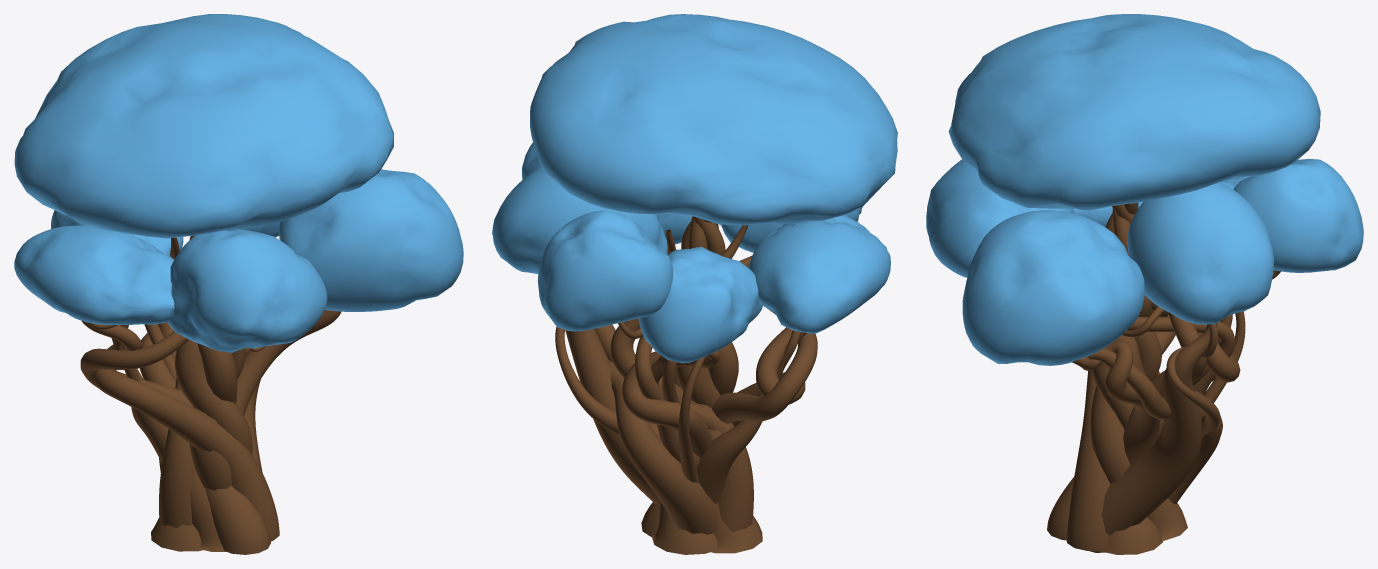
The model's file is bigTree.fbx.
3 views of the same model, side by side, from view 1: azimuth 30°, elevation 25°; view 2: azimuth 150°, elevation 25°; view 3: azimuth 270°, elevation 25° (orthographic). The views are drawn at different scales.
Visible parts, largest first — view 1: leaves2, TreeTrunks, leaves6, leaves1, leaves3, MainTreeTrunk, leaves5; view 2: leaves2, TreeTrunks, leaves4, leaves3, leaves5, MainTreeTrunk, leaves7, leaves1, leaves6; view 3: leaves2, TreeTrunks, leaves6, leaves7, leaves4, MainTreeTrunk, leaves1.
Part boxes in pixels (left/top/right/bottom): leaves2: left=14, top=14, right=393, bottom=238; TreeTrunks: left=80, top=237, right=341, bottom=554; leaves6: left=278, top=169, right=463, bottom=311; leaves1: left=168, top=229, right=327, bottom=352; leaves3: left=14, top=225, right=174, bottom=324; MainTreeTrunk: left=151, top=235, right=252, bottom=551; leaves5: left=51, top=210, right=183, bottom=256; leaves2: left=530, top=14, right=897, bottom=225; TreeTrunks: left=555, top=225, right=817, bottom=534; leaves4: left=537, top=210, right=672, bottom=331; leaves3: left=748, top=215, right=890, bottom=333; leaves5: left=638, top=246, right=762, bottom=363; MainTreeTrunk: left=641, top=216, right=762, bottom=554; leaves7: left=492, top=165, right=667, bottom=274; leaves1: left=720, top=206, right=862, bottom=252; leaves6: left=522, top=143, right=691, bottom=244; leaves2: left=948, top=14, right=1320, bottom=210; TreeTrunks: left=1047, top=270, right=1280, bottom=552; leaves6: left=962, top=210, right=1144, bottom=365; leaves7: left=1127, top=182, right=1274, bottom=324; leaves4: left=1233, top=159, right=1363, bottom=272; MainTreeTrunk: left=1090, top=202, right=1187, bottom=554; leaves1: left=926, top=159, right=1074, bottom=277.
Bounding box in the file's own units: 780 × 958 × 765.
